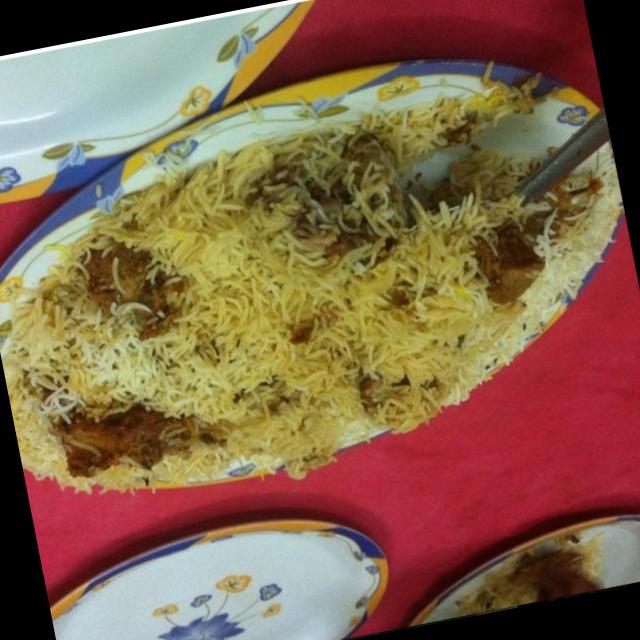Biryani: (0, 71, 640, 534)
